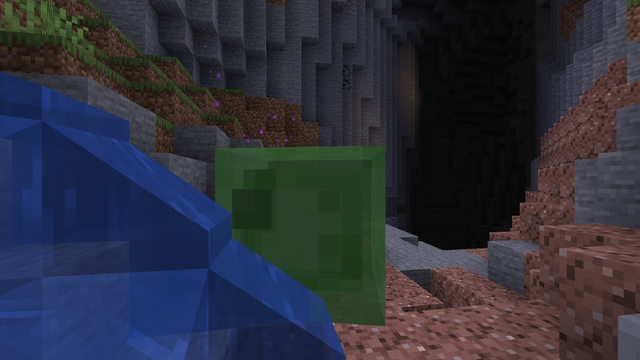slimes: (227, 136, 407, 330)
